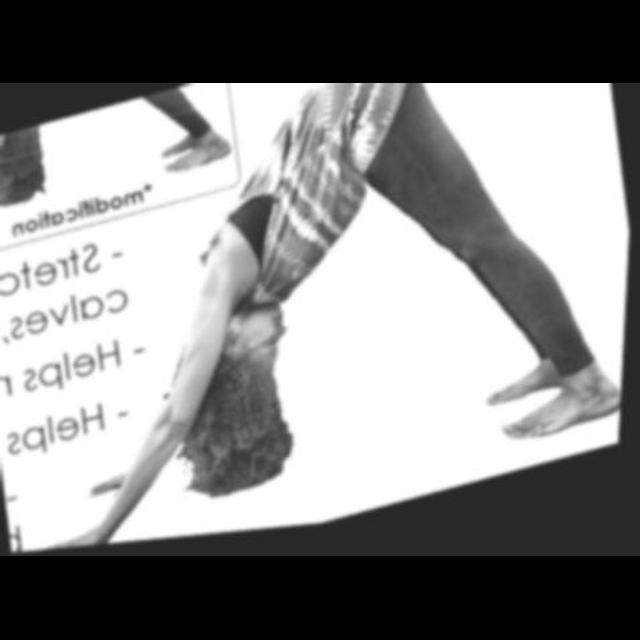Downward-Facing_Dog: (31, 82, 625, 550)
